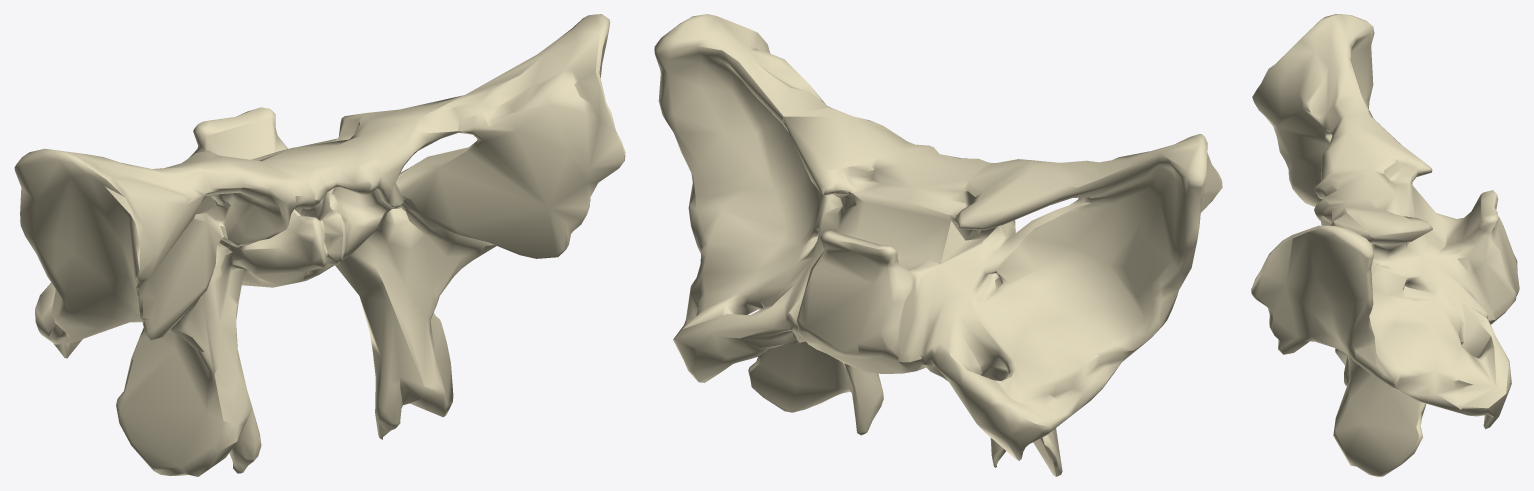
The model's file is sphenoid_bone.glb.
3 views of the same model, side by side, from view 1: azimuth 30°, elevation 25°; view 2: azimuth 150°, elevation 25°; view 3: azimuth 270°, elevation 25° (orthographic). The views are drawn at different scales.
Parts seen in each view (by area): view 1: sphenoid bone; view 2: sphenoid bone; view 3: sphenoid bone.
Boxes of the visible parts, box(x1,y1,x2,y2) form: sphenoid bone: box(14, 14, 625, 476); sphenoid bone: box(654, 14, 1222, 476); sphenoid bone: box(1251, 14, 1519, 476).
Size of the model in its own units: 0.1114 by 0.0696 by 0.0546.
